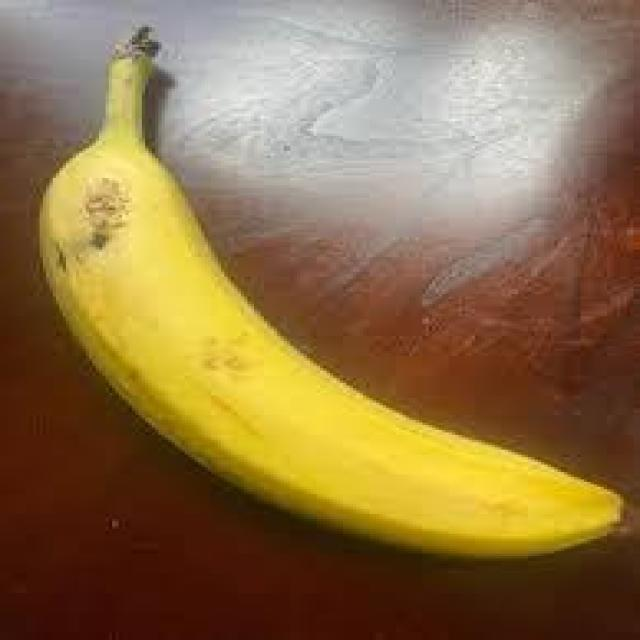Ripe: (22, 19, 640, 588)
